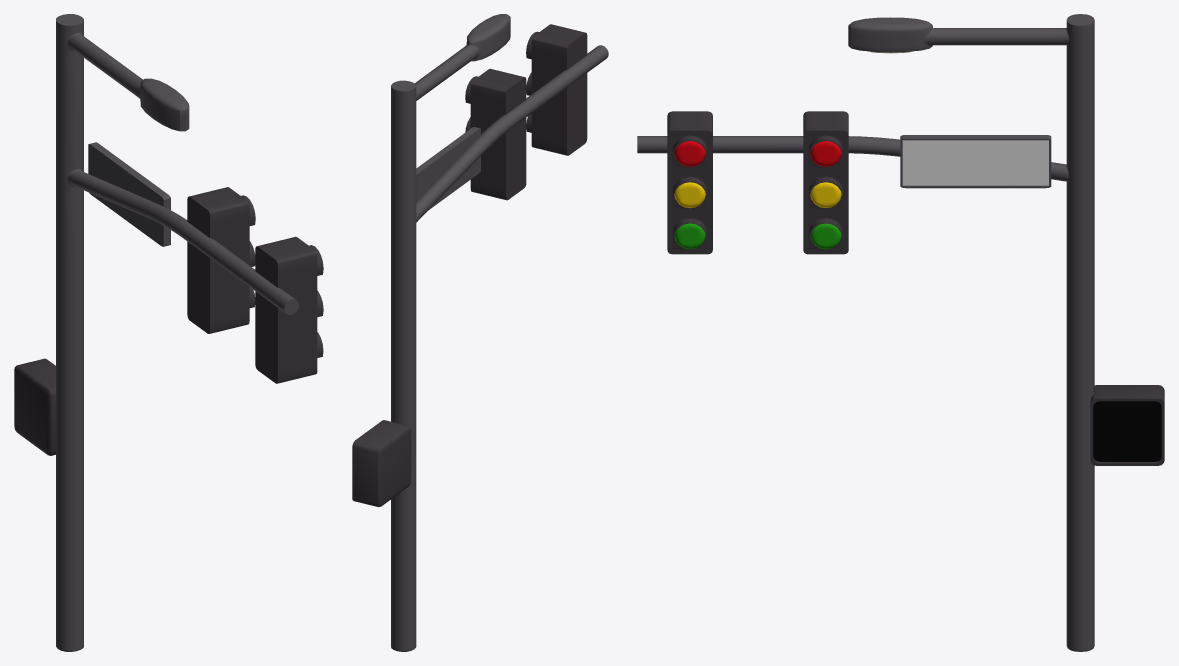
The model's file is traffic_light_1.fbx.
3 renders of one model, left to right at view 1: azimuth 30°, elevation 25°; view 2: azimuth 150°, elevation 25°; view 3: azimuth 270°, elevation 25°, orthographic. The views are drawn at different scales.
Parts seen in each view (by area): view 1: traffic_light_pole_1, traffic_light_1_1, traffic_light_2_1, traffic_light_walk_signal_1, traffic_light_sign_1; view 2: traffic_light_pole_1, traffic_light_1_1, traffic_light_2_1, traffic_light_walk_signal_1, traffic_light_sign_1; view 3: traffic_light_pole_1, traffic_light_sign_1, traffic_light_1_1, traffic_light_2_1, traffic_light_walk_signal_1.
Part boxes in pixels (bbox=[...]): traffic_light_pole_1: bbox=[56, 14, 298, 651]; traffic_light_1_1: bbox=[255, 236, 323, 383]; traffic_light_2_1: bbox=[187, 187, 255, 333]; traffic_light_walk_signal_1: bbox=[14, 358, 55, 455]; traffic_light_sign_1: bbox=[88, 142, 170, 246]; traffic_light_pole_1: bbox=[391, 14, 608, 651]; traffic_light_1_1: bbox=[526, 24, 587, 155]; traffic_light_2_1: bbox=[465, 68, 526, 200]; traffic_light_walk_signal_1: bbox=[352, 420, 411, 507]; traffic_light_sign_1: bbox=[416, 127, 480, 209]; traffic_light_pole_1: bbox=[637, 14, 1094, 651]; traffic_light_sign_1: bbox=[900, 135, 1051, 188]; traffic_light_1_1: bbox=[667, 111, 712, 254]; traffic_light_2_1: bbox=[803, 111, 848, 254]; traffic_light_walk_signal_1: bbox=[1090, 385, 1164, 465].
Size of the model in its own units: 58.08 by 533 by 406.
